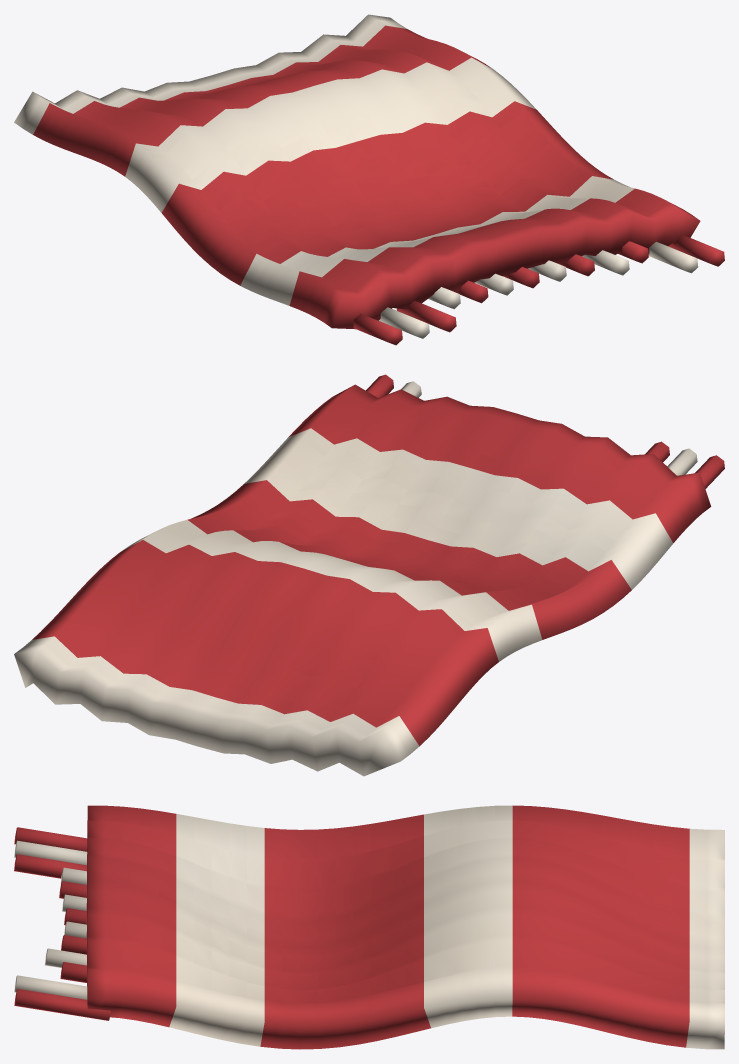
Rendered from frost_scarf_drape.glb.
The picture shows the model from 3 angles, top to bottom: view 1: azimuth 30°, elevation 25°; view 2: azimuth 150°, elevation 25°; view 3: azimuth 270°, elevation 25°; orthographic projection. The views are drawn at different scales.
Parts seen in each view (by area): view 1: frost_scarf_drape; view 2: frost_scarf_drape; view 3: frost_scarf_drape.
Part boxes in pixels (<box>): frost_scarf_drape: <box>14,14,724,345</box>; frost_scarf_drape: <box>14,374,724,776</box>; frost_scarf_drape: <box>14,805,724,1049</box>.
Size of the model in its own units: 3.96 by 1 by 6.29.
